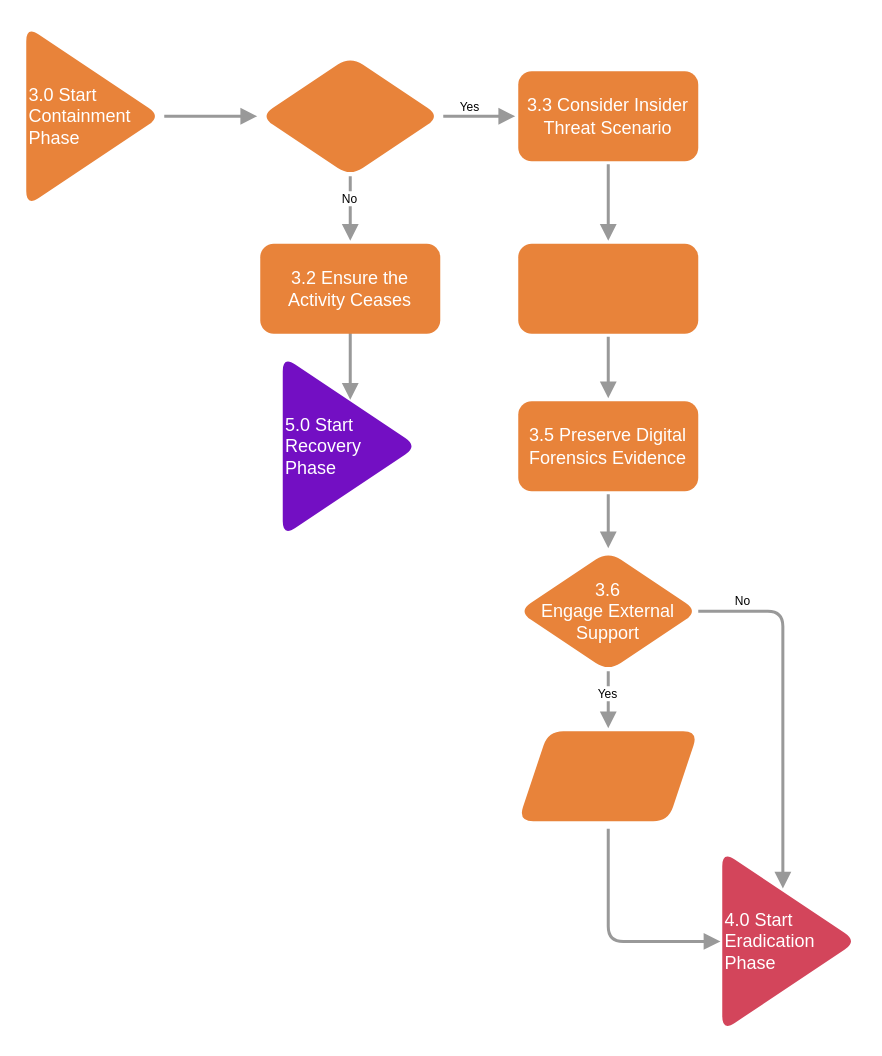
Some shapes in this 882 by 1056 pixel diagram are drawn without their labels. Here are the shapes that lost their labels. From the top down, the centre of each, then its label:
(x=350, y=116): 3.1 Is it a Deliberate Human Error?
(x=608, y=288): 3.4 Involve HR and Legal
(x=608, y=775): 3.7 External Support Activities
